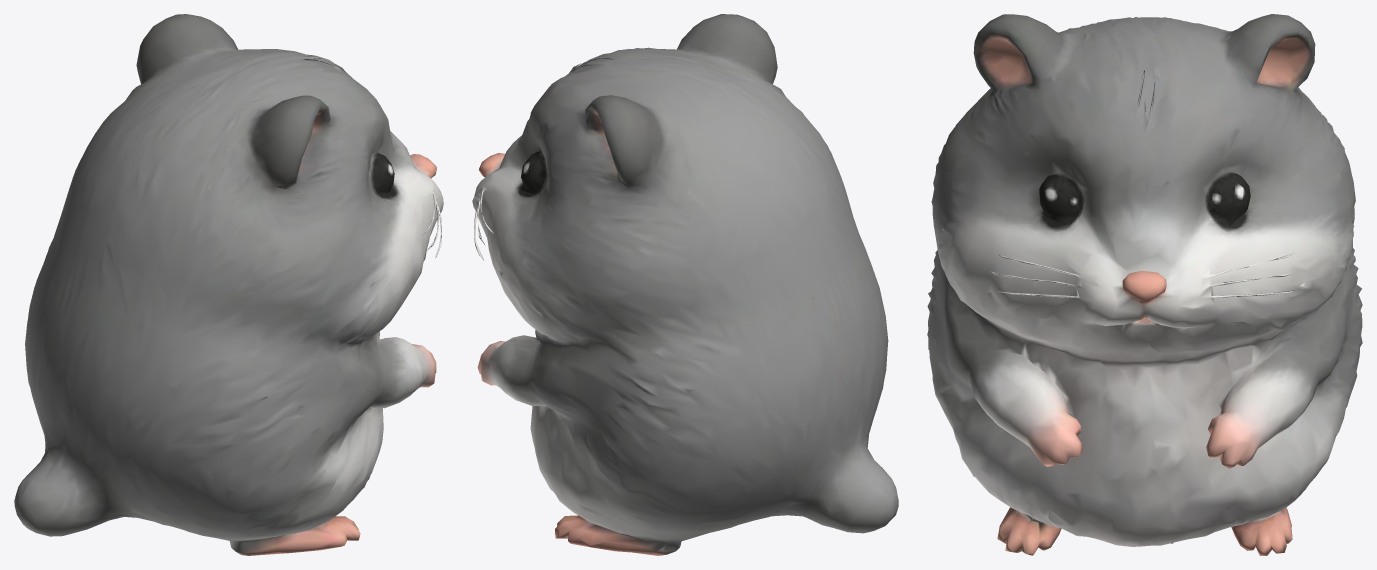
Rendered from pet-hamster.glb.
3 views of the same model, side by side, from view 1: azimuth 30°, elevation 25°; view 2: azimuth 150°, elevation 25°; view 3: azimuth 270°, elevation 25° (orthographic). The views are drawn at different scales.
Parts seen in each view (by area): view 1: tripo_node_6864630d-2e9e-4274-a40d-4c704d4d9b9c; view 2: tripo_node_6864630d-2e9e-4274-a40d-4c704d4d9b9c; view 3: tripo_node_6864630d-2e9e-4274-a40d-4c704d4d9b9c.
Part boxes in pixels (x1=…): tripo_node_6864630d-2e9e-4274-a40d-4c704d4d9b9c: x1=14, y1=14, x2=443, y2=555; tripo_node_6864630d-2e9e-4274-a40d-4c704d4d9b9c: x1=472, y1=14, x2=898, y2=555; tripo_node_6864630d-2e9e-4274-a40d-4c704d4d9b9c: x1=927, y1=14, x2=1362, y2=555.
Size of the model in its own units: 0.962 by 1 by 0.7797.
1 material, 1 textured.
